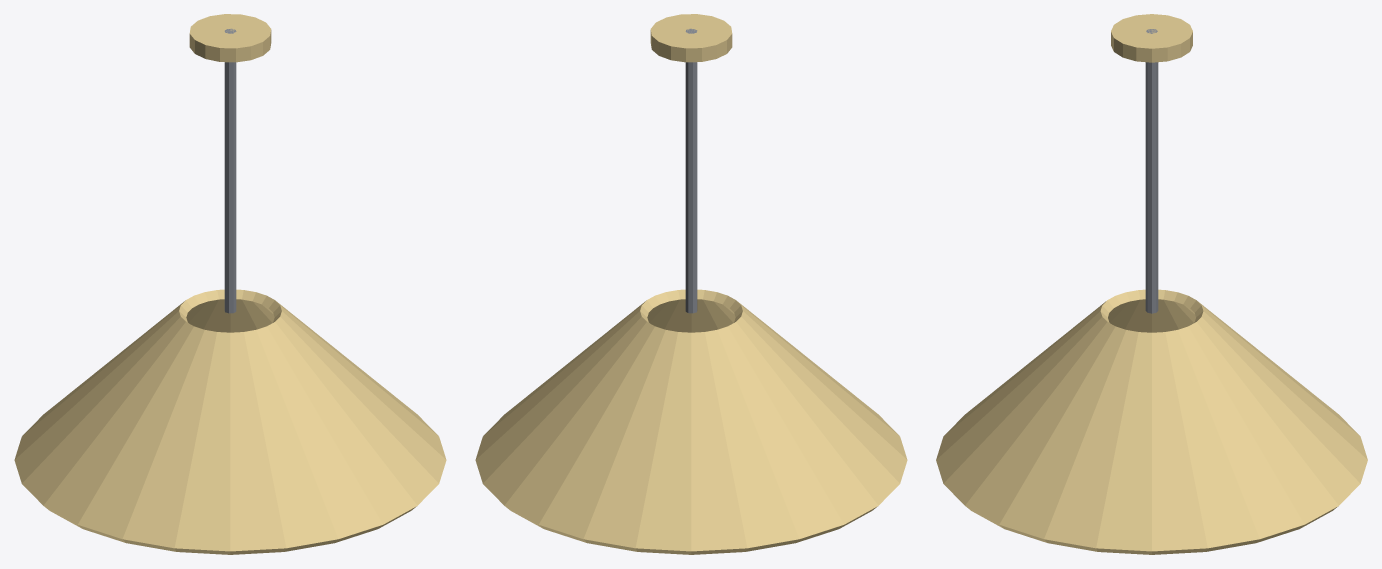
The model's file is prop_pendant_lamp.glb.
The picture shows the model from 3 angles, left to right: view 1: azimuth 30°, elevation 25°; view 2: azimuth 150°, elevation 25°; view 3: azimuth 270°, elevation 25°; orthographic projection.
Visible parts, largest first — view 1: Lamp; view 2: Lamp; view 3: Lamp.
Part boxes in pixels (x1,y1,x2,y2): Lamp: (14, 14, 446, 554); Lamp: (475, 14, 907, 554); Lamp: (936, 14, 1367, 554).
Bounding box in the file's own units: 0.84 × 0.9341 × 0.84.
